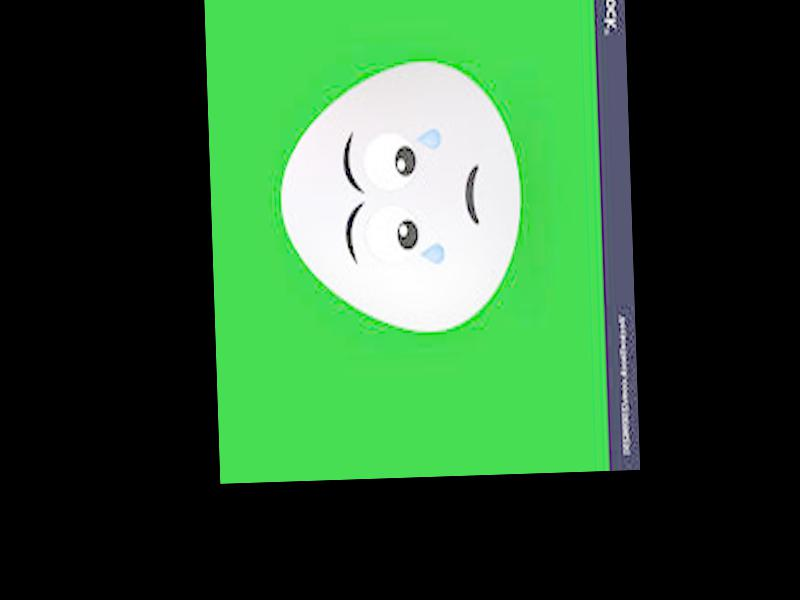Eggs: (278, 56, 523, 334)
